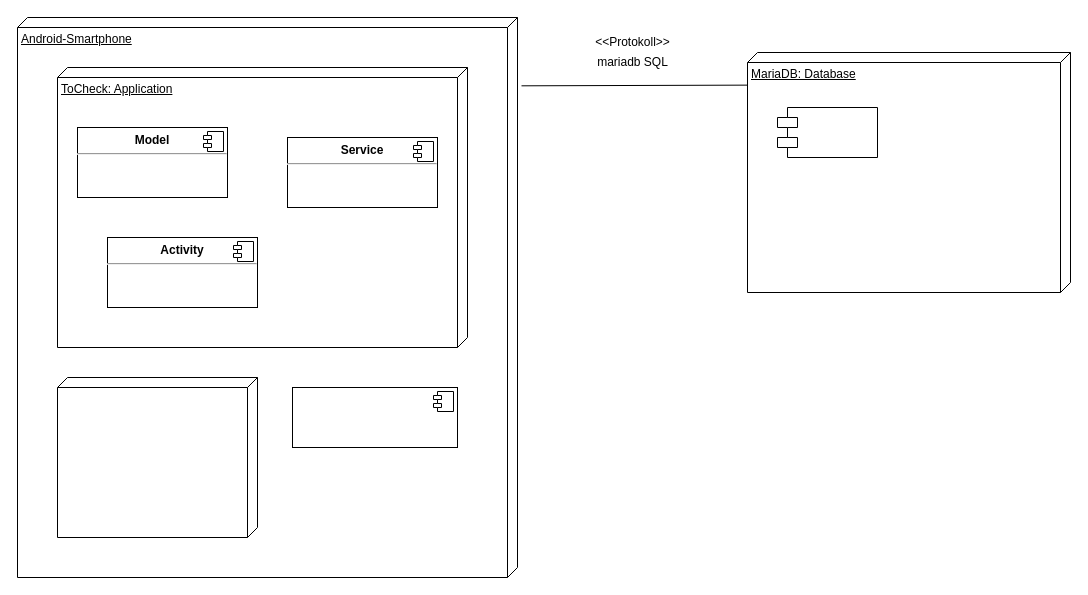
Some shapes in this 1088 by 595 pixel diagram are drawn without their labels. Here are the shapes that lost their labels. From the top down, the centre of each, then its label:
At (827,132): "ToDo".
At (375,417): "<<artifact>> Android".
At (157,457): "Camera: Application".
